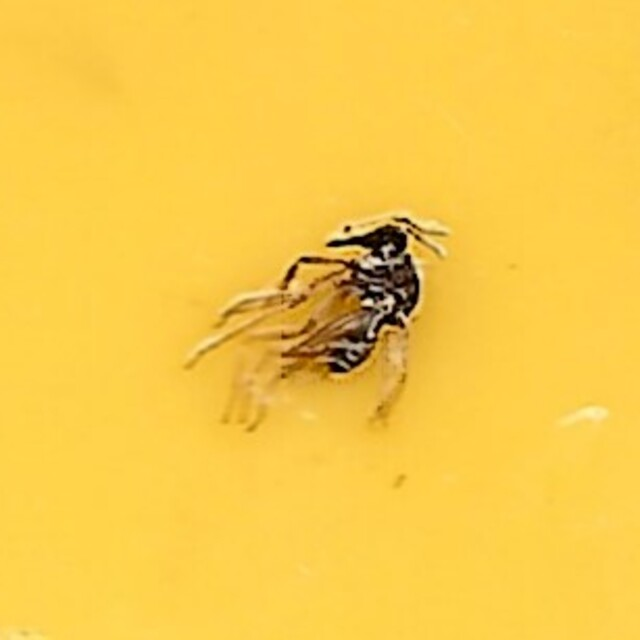Brachycera: (208, 206, 432, 434)
